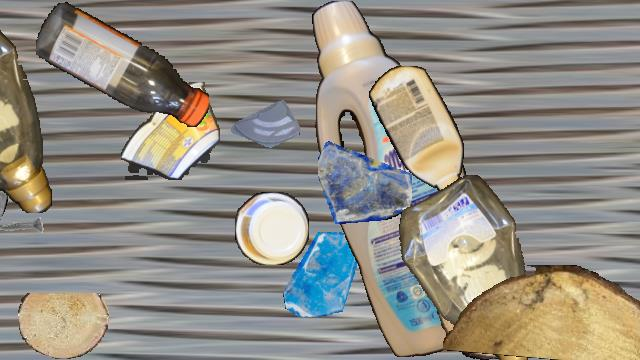glass: (318, 130, 412, 224), (281, 232, 365, 316), (231, 93, 299, 161), (0, 132, 11, 222)
metal: (433, 150, 495, 212), (0, 204, 45, 256)
plastic: (310, 1, 514, 357), (394, 175, 540, 359), (36, 1, 208, 129), (369, 66, 463, 194), (0, 1, 53, 213), (121, 82, 219, 180), (235, 192, 309, 264)
wood: (443, 265, 640, 359), (435, 253, 511, 359), (18, 293, 108, 359)
